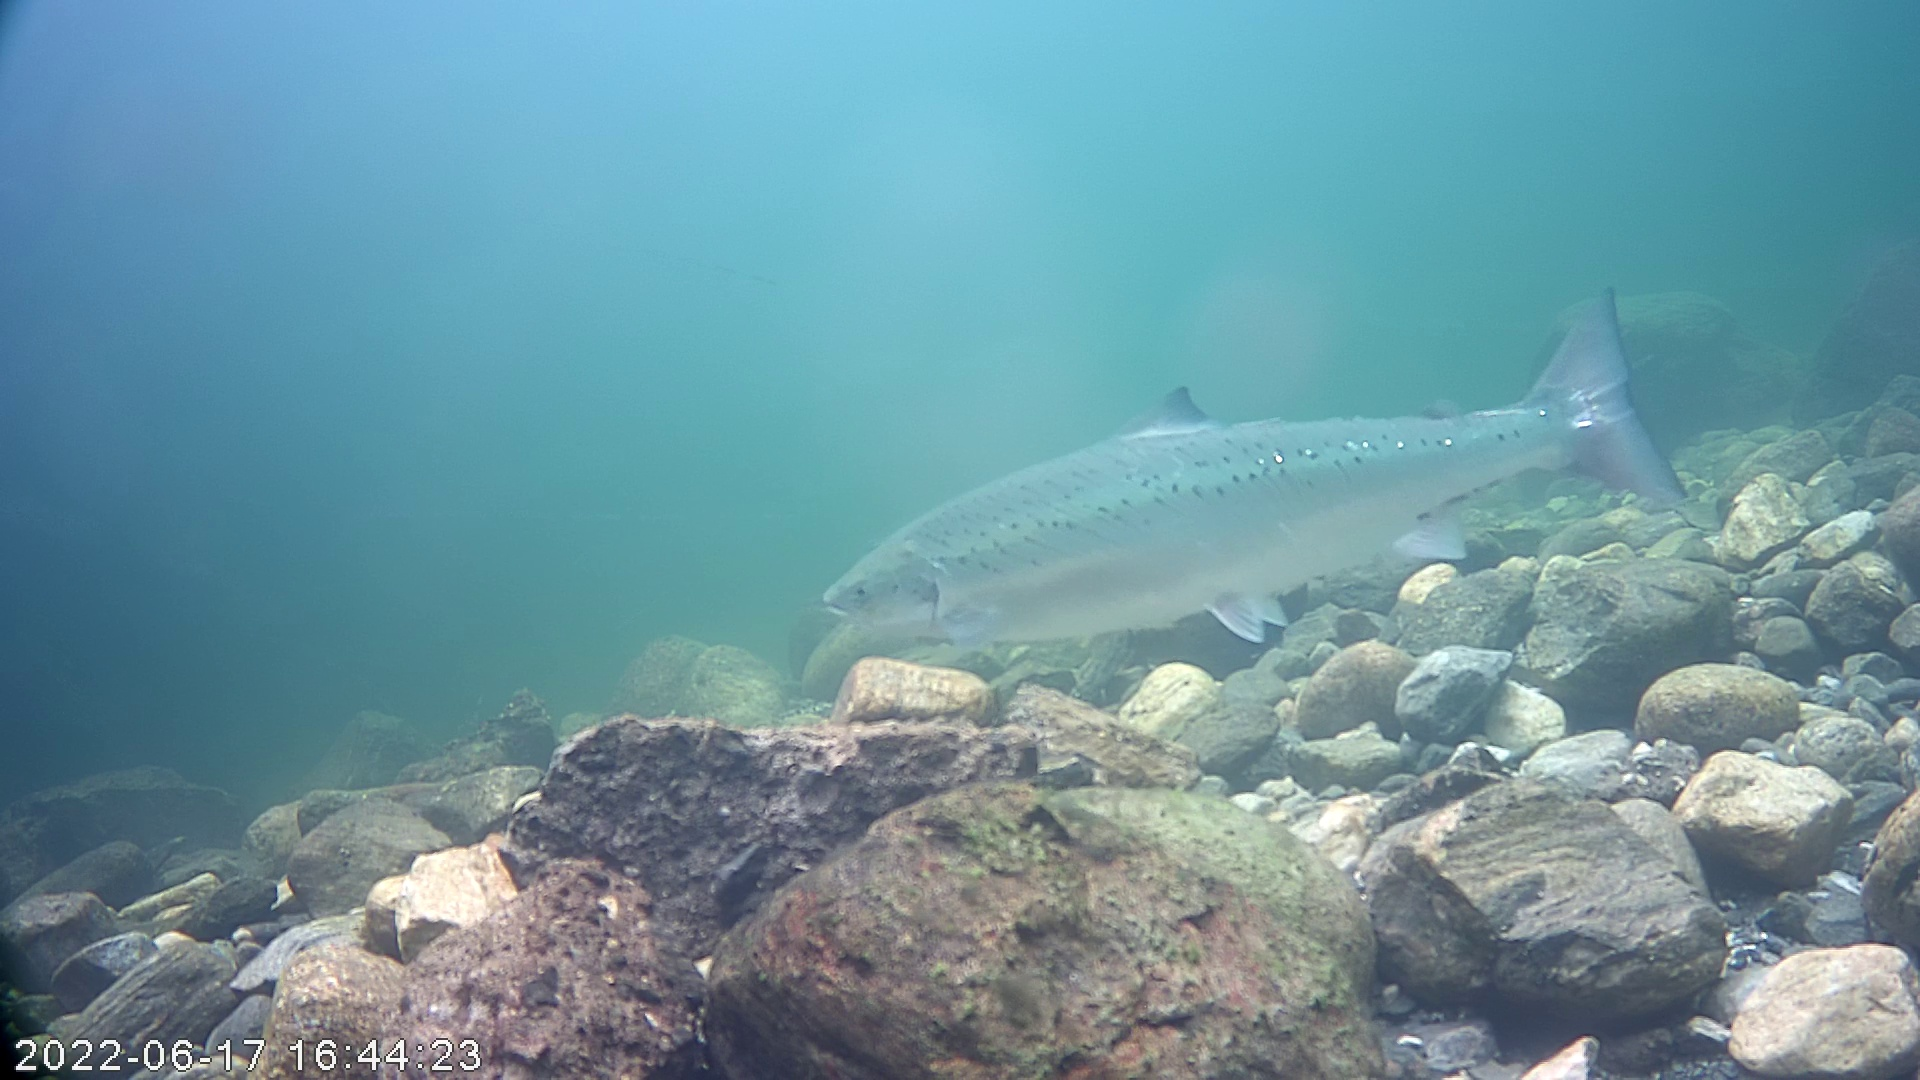salmon: (812, 280, 1705, 651)
